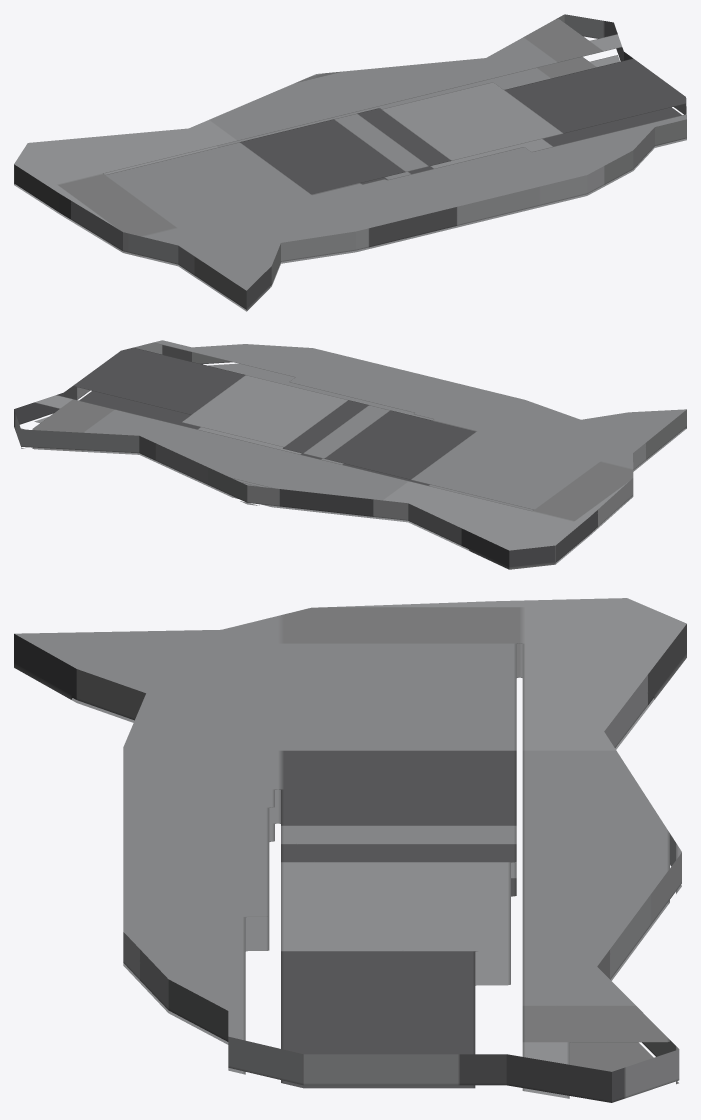
3 views of the same model, one above another, from view 1: azimuth 30°, elevation 25°; view 2: azimuth 150°, elevation 25°; view 3: azimuth 270°, elevation 25° (orthographic). The views are drawn at different scales.
Bounding box in the file's own units: 1.61 × 0.054 × 0.967.
